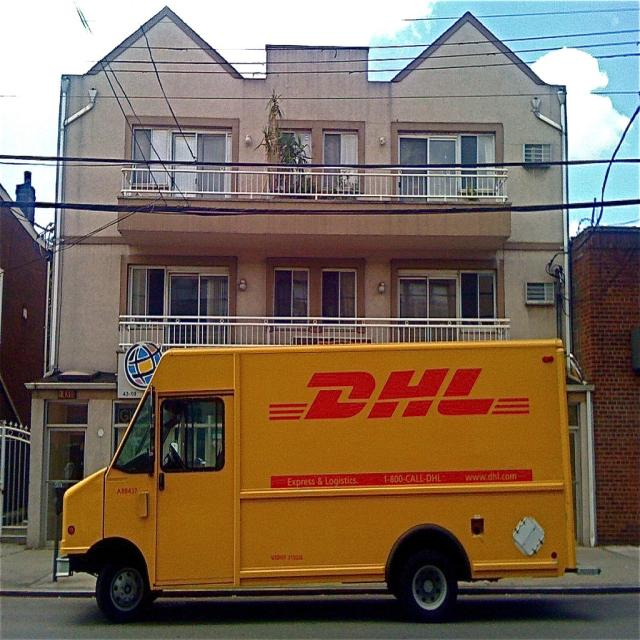dhl: (264, 362, 544, 426)
